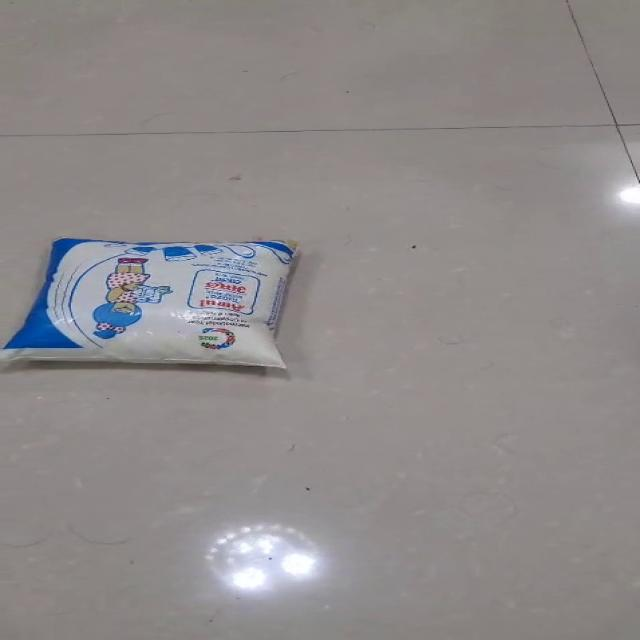plastic: (0, 236, 299, 370)
